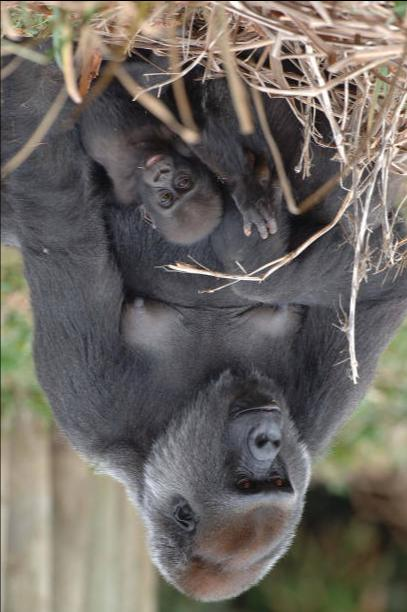gorille_Autres: (0, 53, 395, 612)
